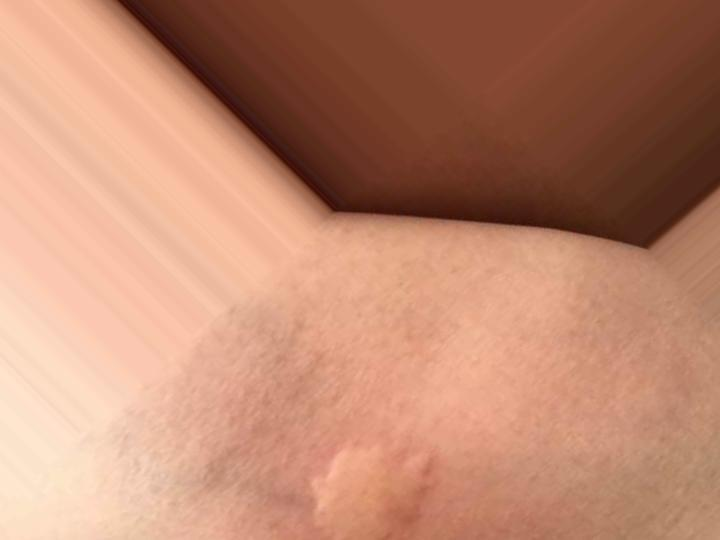Mosquito: (310, 445, 434, 539)
